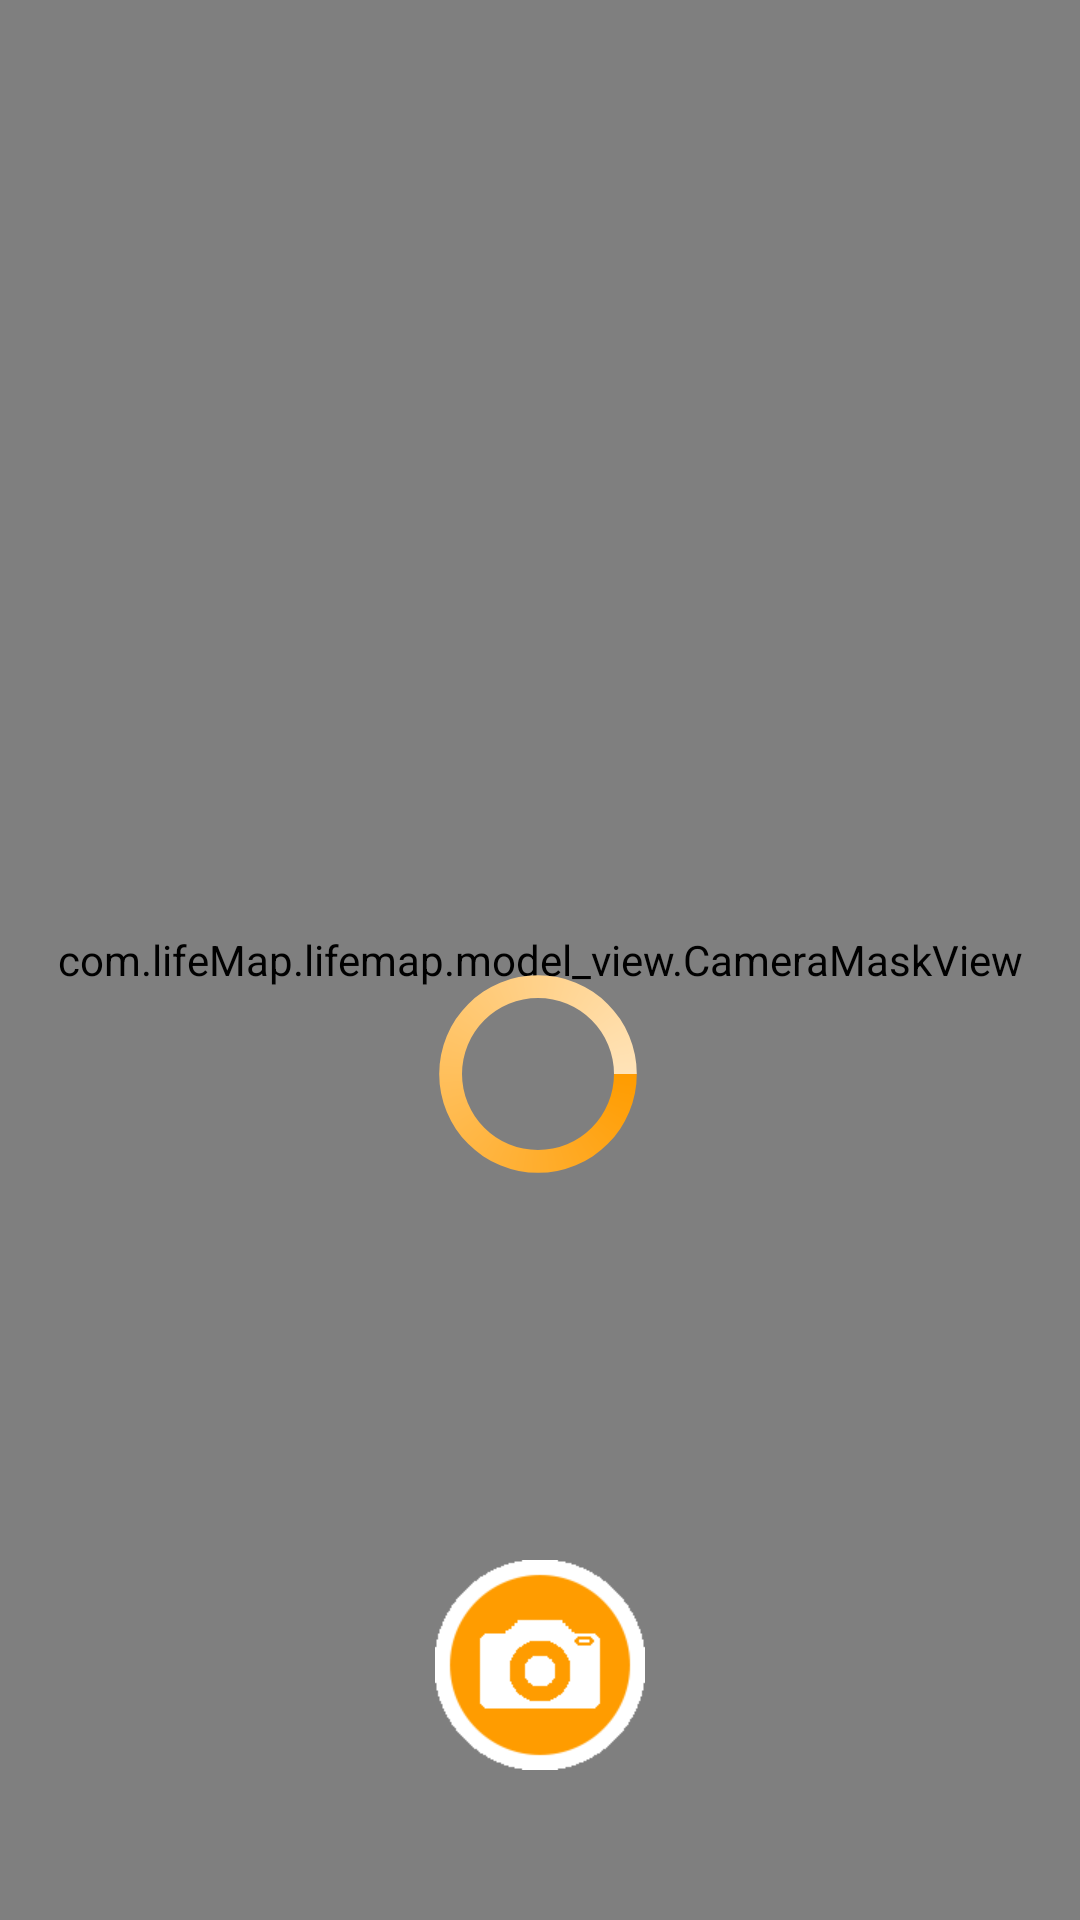

Icon bounding boxes for this 1080w x 1920h phone screenshot, format (x1, y1, x2, y2):
capture click: (435, 1560, 645, 1770)
